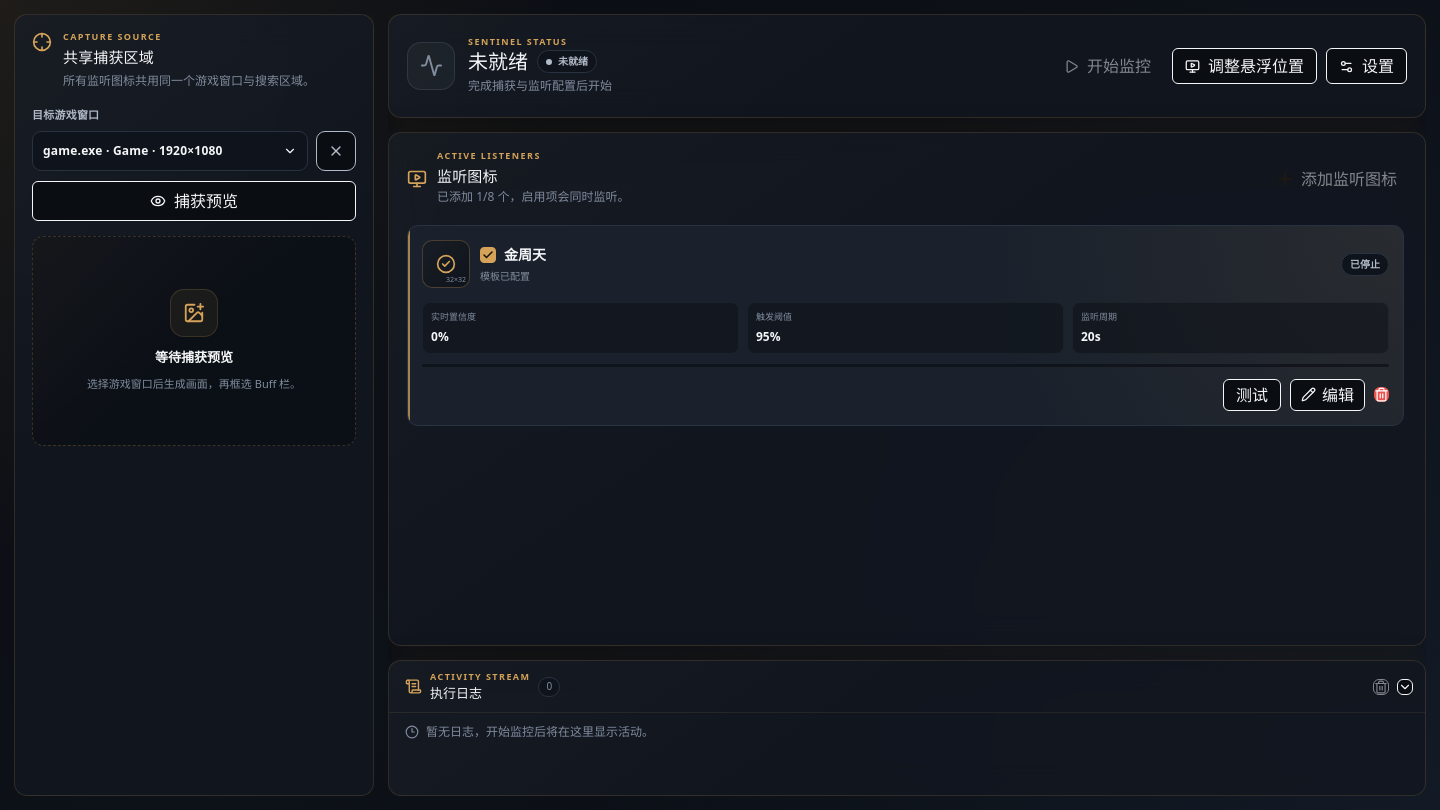
Scenario: BuffAssistantPage › keeps the target selection when clearing the target window fails
The image size is (1440, 810).
Click the button named "清空目标窗口".
click(336, 151)  # box [316,131,356,171]
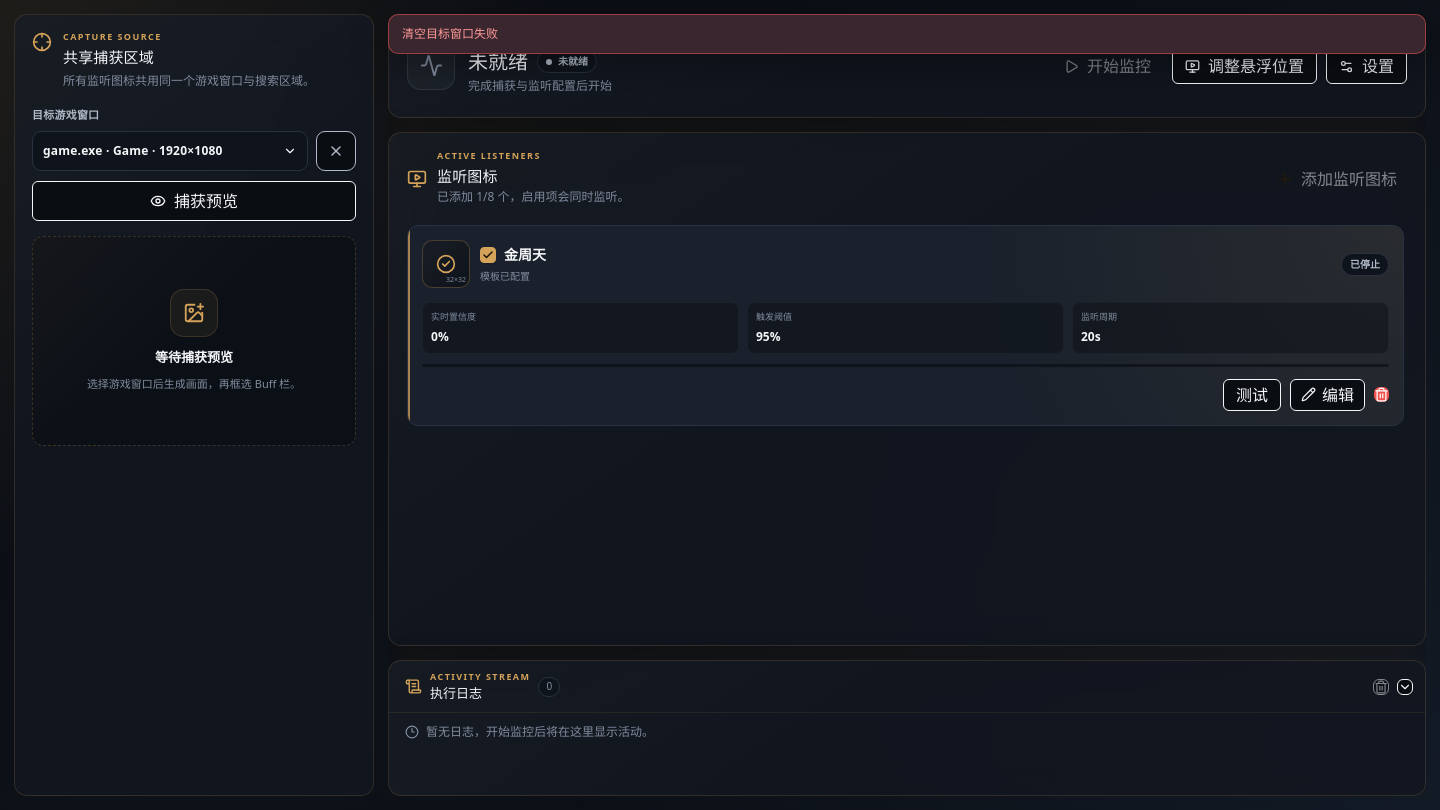
Expected: the dropdown named "目标游戏窗口" reads "game.exe · Game · 1920×1080", [32,131,308,171]
Expected: the text "清空目标窗口失败" is shown, [388,14,1426,54]
